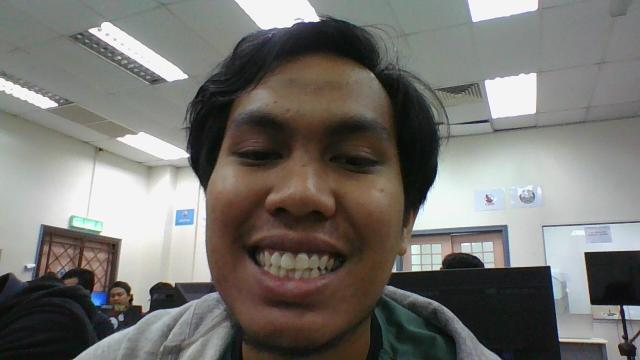senang: (188, 34, 412, 342)
